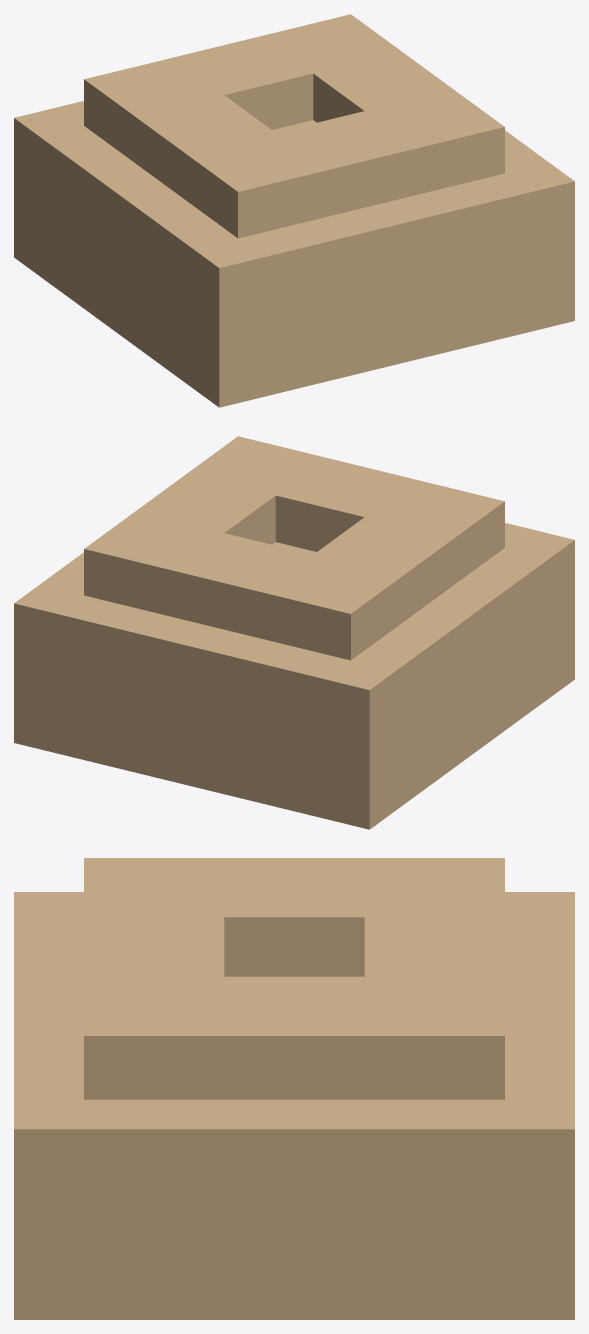
File: token-v4-tan.gltf
3 renders of one model, top to bottom at view 1: azimuth 30°, elevation 25°; view 2: azimuth 150°, elevation 25°; view 3: azimuth 270°, elevation 25°, orthographic. The views are drawn at different scales.
Parts seen in each view (by area): view 1: Untitled; view 2: Untitled; view 3: Untitled.
Part boxes in pixels (x1,y1,x2,y2): Untitled: (14, 14, 574, 407); Untitled: (14, 436, 574, 829); Untitled: (14, 858, 574, 1319).
Size of the model in its own units: 0.8 by 0.4 by 0.8.
1 material, 1 textured.
